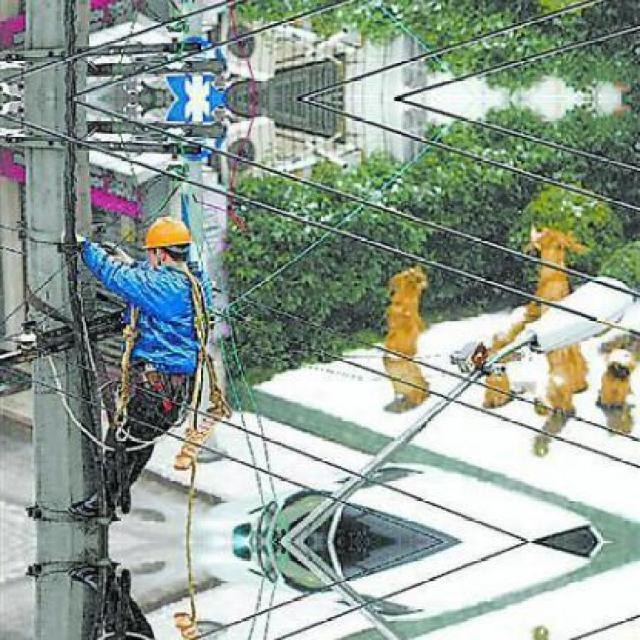boots: (68, 496, 119, 520)
gloves: (101, 241, 135, 266), (60, 229, 87, 247)
hard-hat: (139, 216, 193, 250)
person: (68, 216, 212, 520)
vest: (78, 237, 210, 375)
